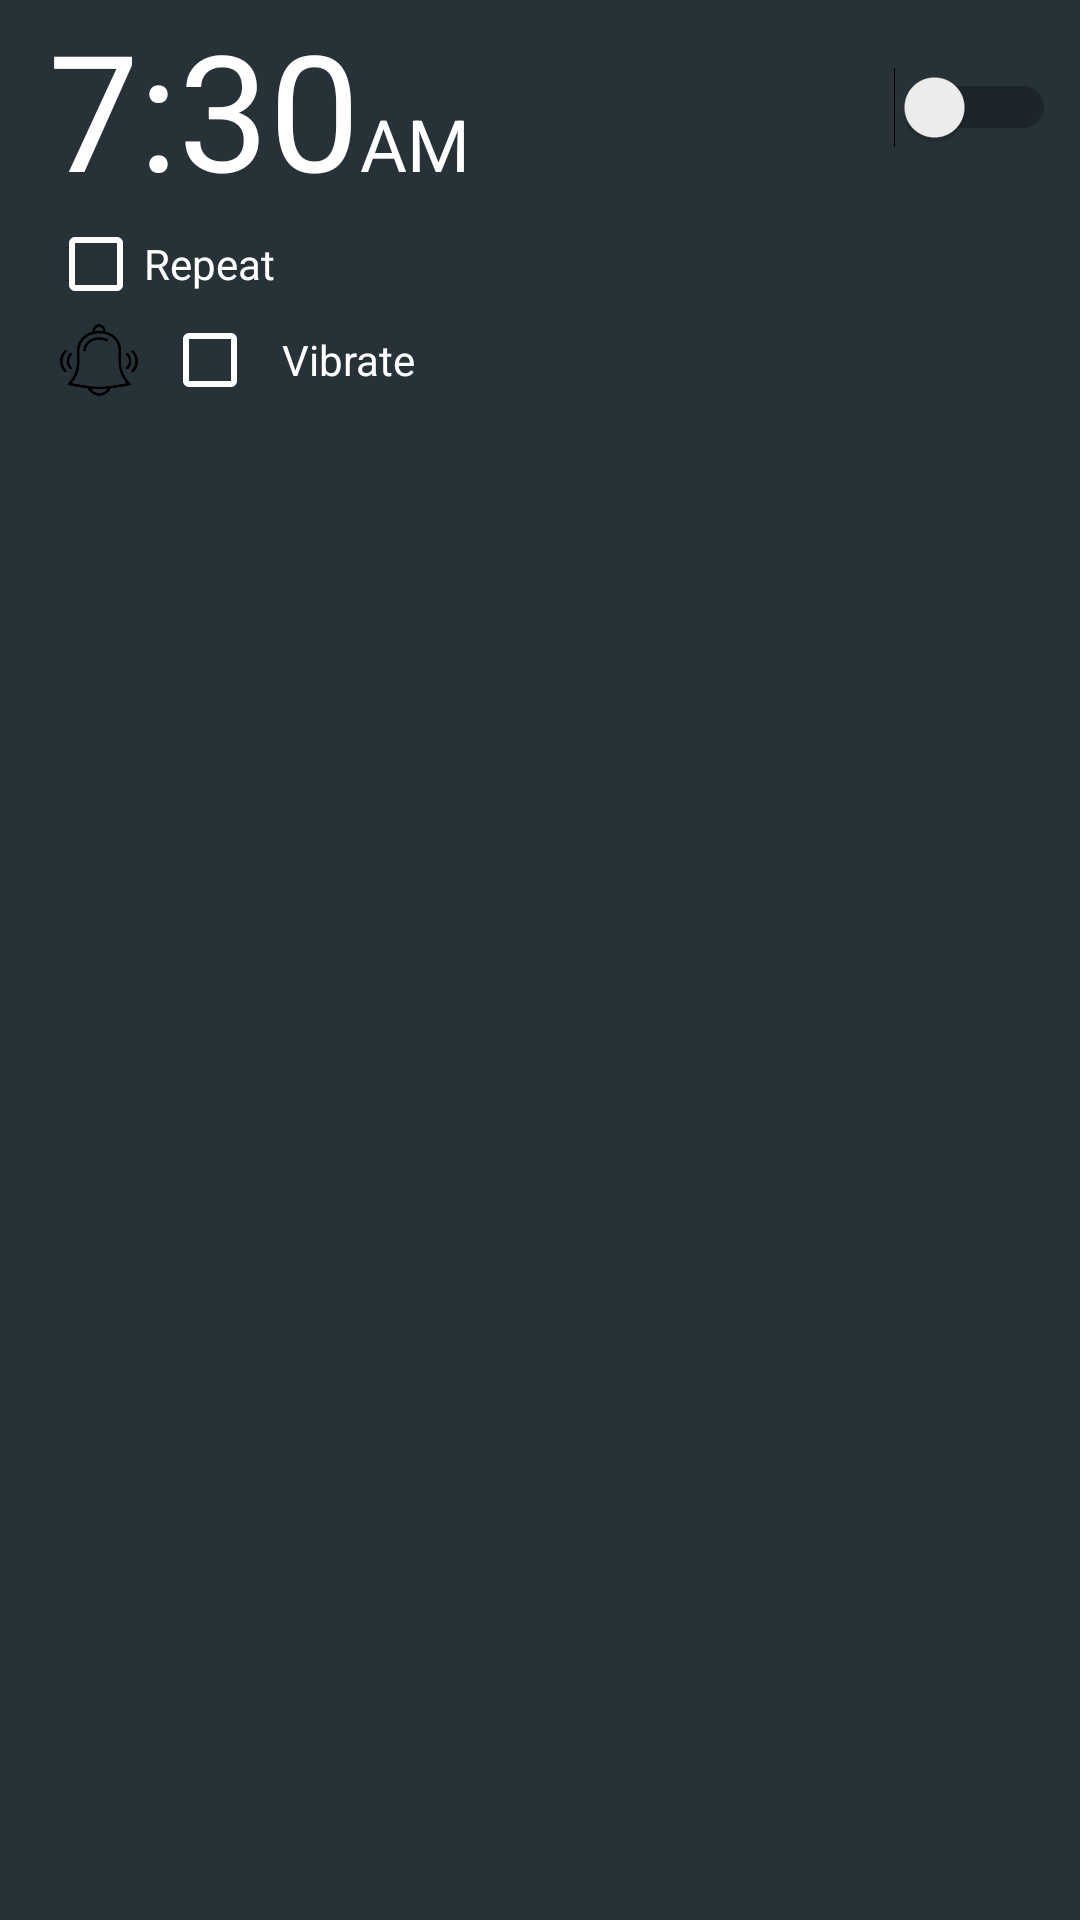

Icon click points for this 1080px×1920px phone screenshot, format (x,y):
alarm sound: (99,360)
